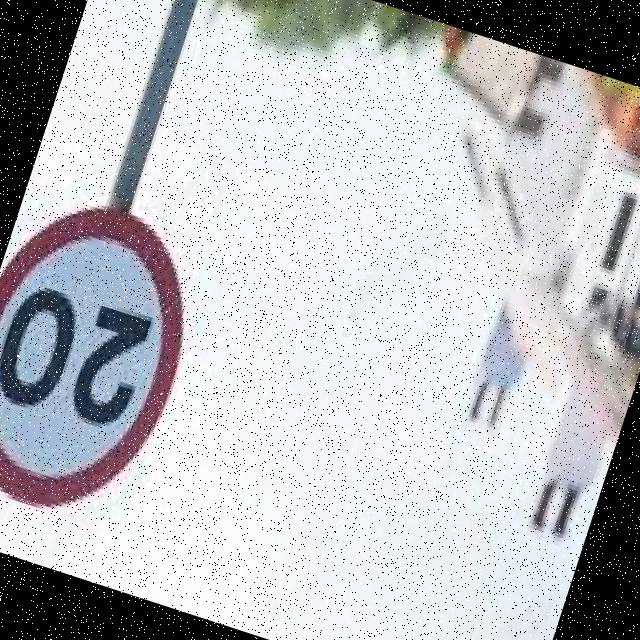speed_limit_20: (0, 174, 225, 549)
